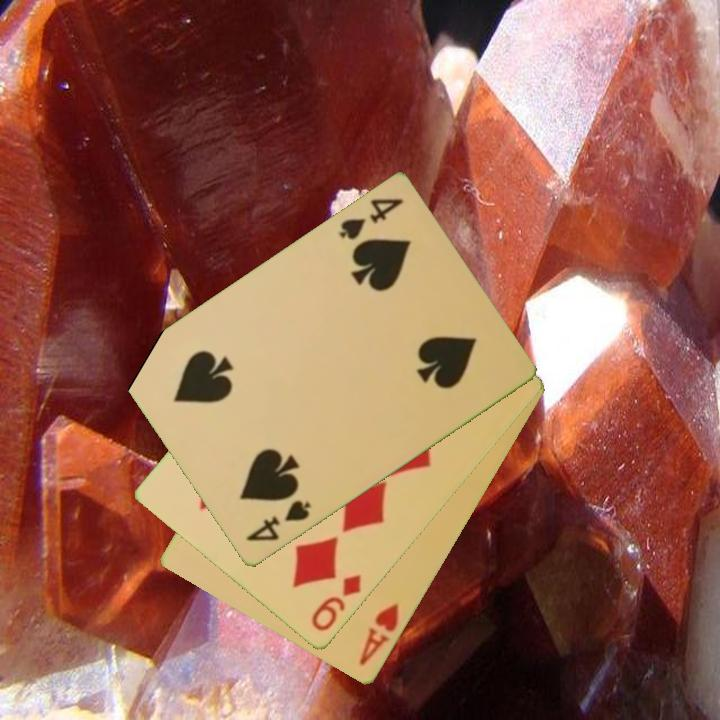4s: (242, 497, 314, 545), (336, 195, 406, 244)
9d: (308, 571, 365, 635)
Ah: (355, 600, 402, 670)
